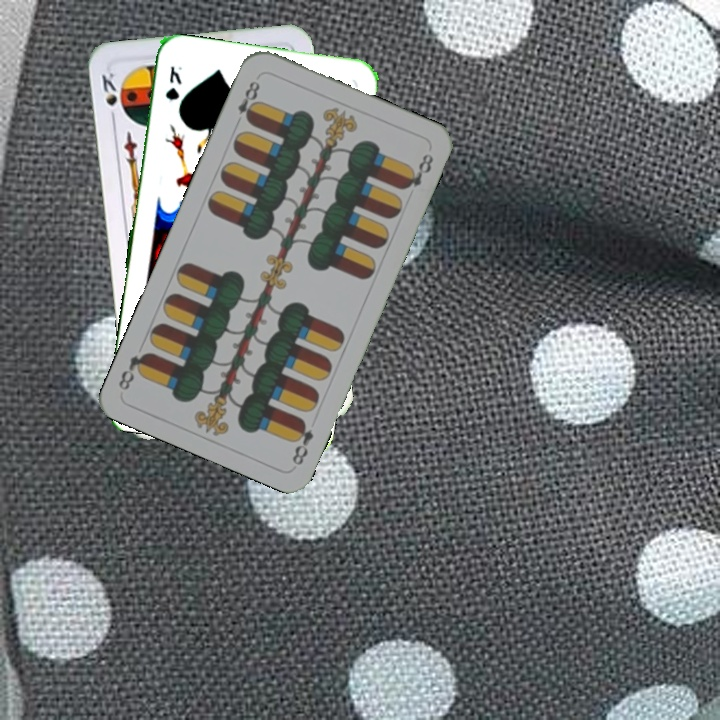E8: (231, 76, 263, 129), (288, 415, 316, 468)
GK: (161, 61, 185, 103)
SK: (97, 68, 120, 126)
